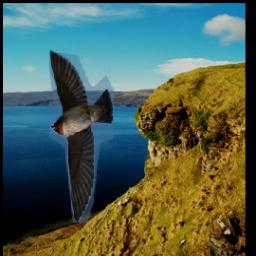Swallow: (49, 50, 114, 222)
